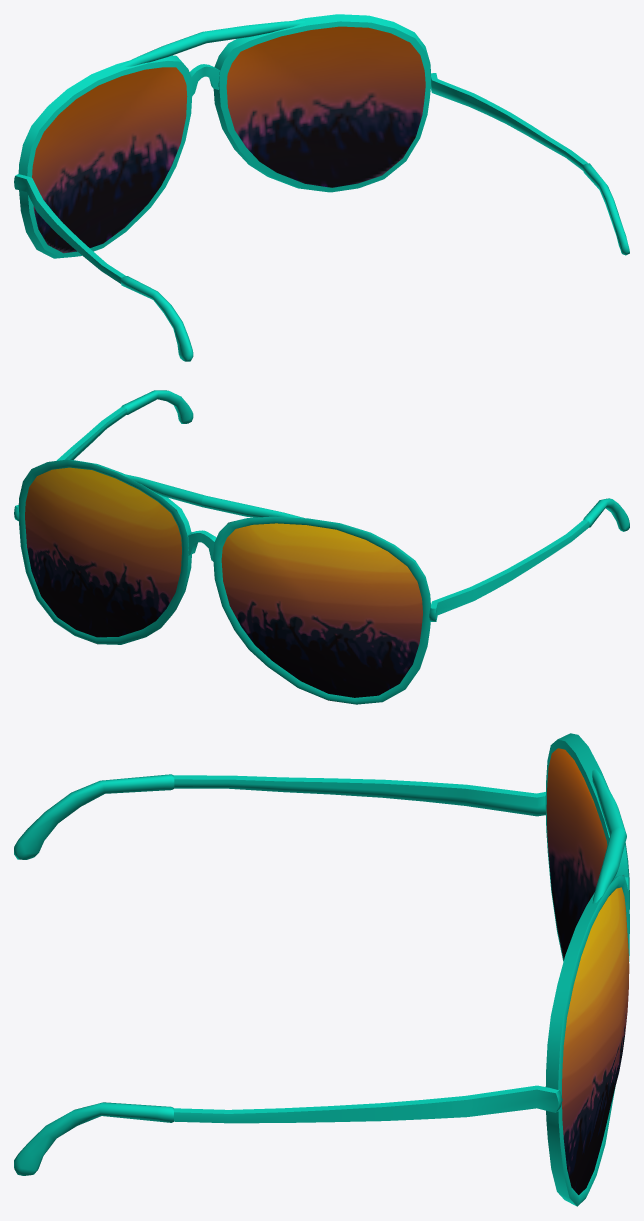
3 renders of one model, top to bottom at view 1: azimuth 30°, elevation 25°; view 2: azimuth 150°, elevation 25°; view 3: azimuth 270°, elevation 25°, orthographic. The views are drawn at different scales.
Parts seen in each view (by area): view 1: Mesh; view 2: Mesh; view 3: Mesh.
Part boxes in pixels (x1,y1,x2,y2): Mesh: [14, 14, 629, 361]; Mesh: [14, 390, 629, 704]; Mesh: [14, 733, 629, 1206].
Bounding box in the file's own units: 1.33 × 0.493 × 1.02.
